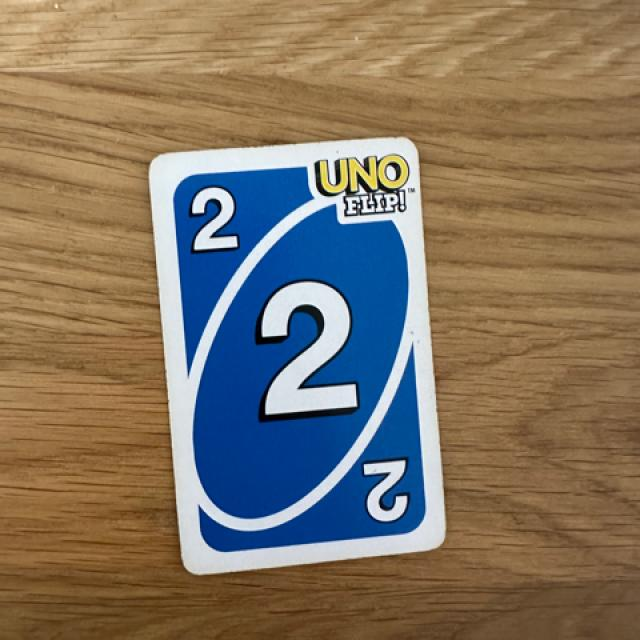lblue-2: (162, 164, 266, 267)
